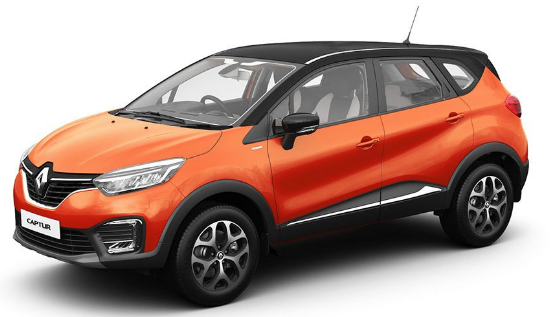car: (5, 32, 535, 312)
